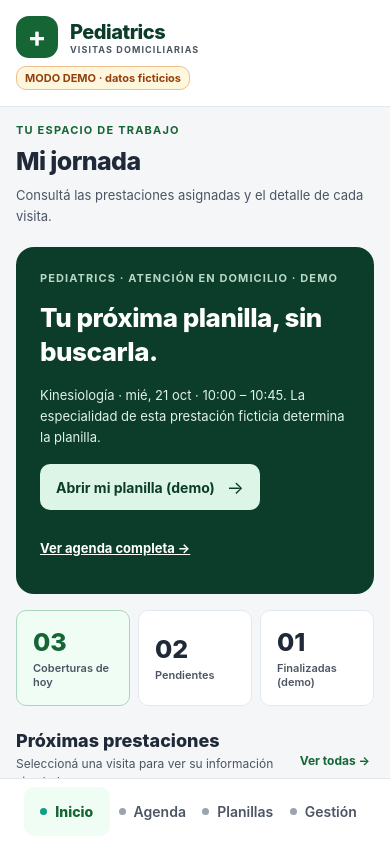
MOB-HC-PRO-01 own roster is synthetic and scoped to a single professional › management route exposes simulation on phone without enabling clinical actions
Click the tab "Gestión" at (323, 812), box [290,803,357,820]
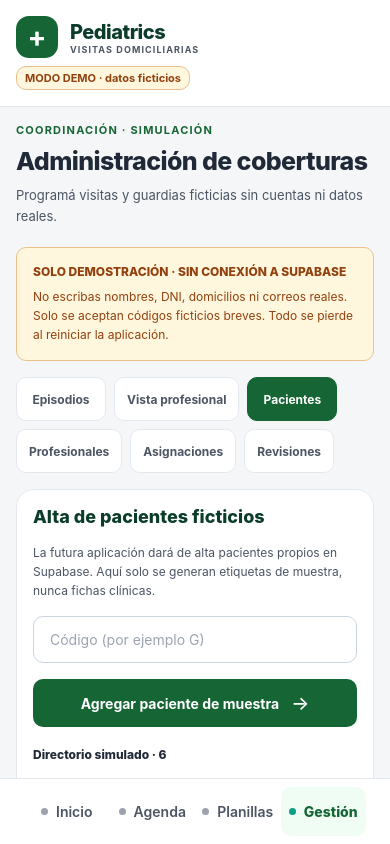
Click the tab with aria-label "Módulo Vista profesional" at (177, 399), box [114,377,239,421]
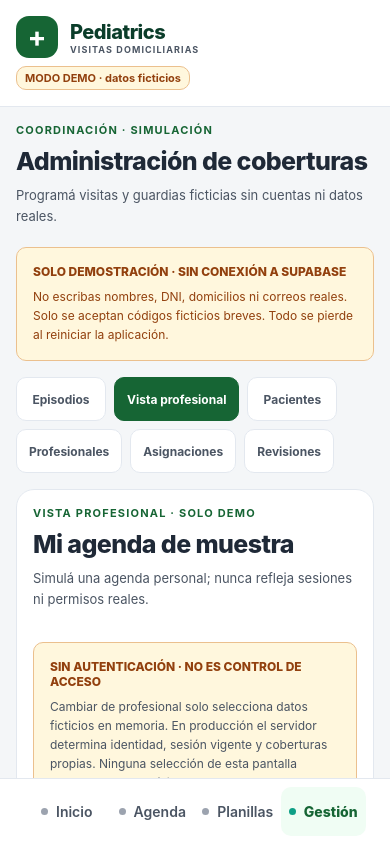
Expected: the text "SIN AUTENTICACIÓN · NO ES CONTROL DE ACCESO" is shown, [50,659,340,689]
